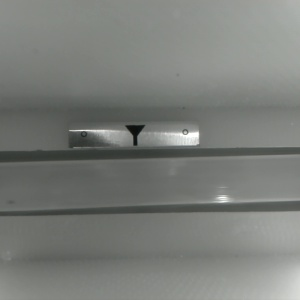finger: (124, 125, 145, 144)
